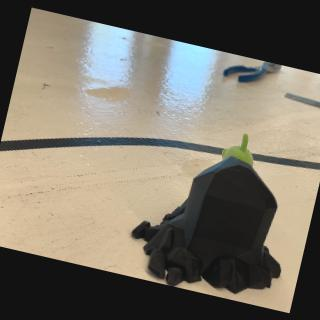teletubby: (221, 133, 253, 166)
